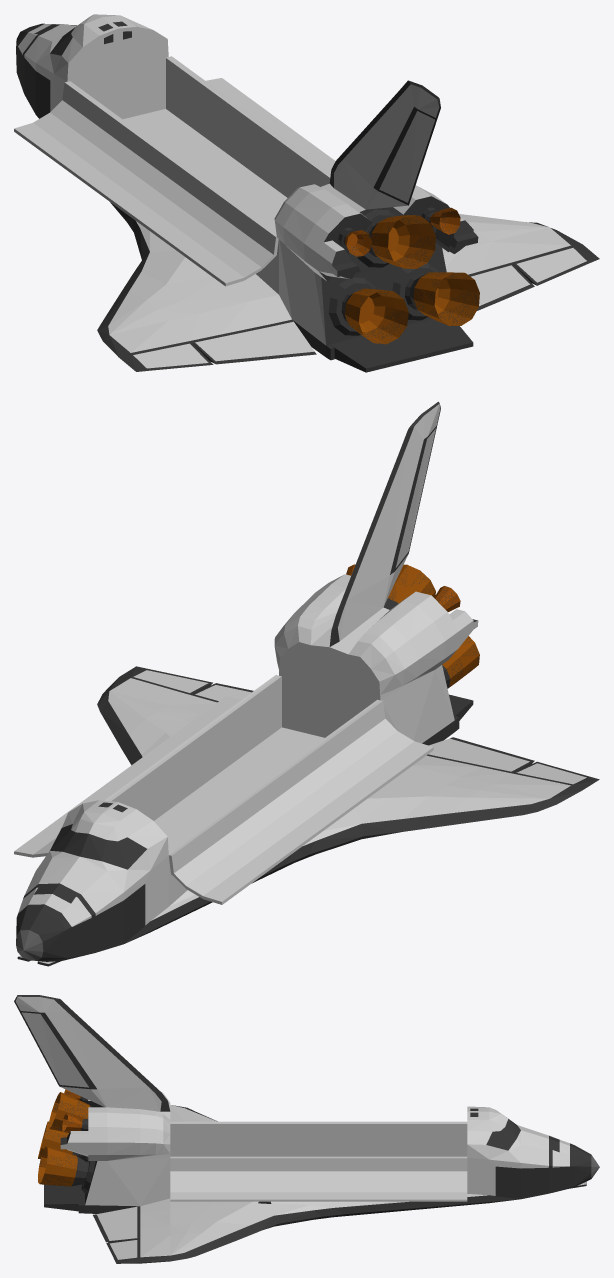
The model's file is shuttle.obj.
3 renders of one model, top to bottom at view 1: azimuth 30°, elevation 25°; view 2: azimuth 150°, elevation 25°; view 3: azimuth 270°, elevation 25°, orthographic. The views are drawn at different scales.
Parts seen in each view (by area): view 1: ShapeIndexedFaceSet.065_ShapeIndexedFaceSet.066, ShapeIndexedFaceSet.063_ShapeIndexedFaceSet.064, ShapeIndexedFaceSet.026_ShapeIndexedFaceSet.027, ShapeIndexedFaceSet.001_ShapeIndexedFaceSet.002, ShapeIndexedFaceSet_ShapeIndexedFaceSet.001, ShapeIndexedFaceSet.022_ShapeIndexedFaceSet.023, ShapeIndexedFaceSet.012_ShapeIndexedFaceSet.013, ShapeIndexedFaceSet.003_ShapeIndexedFaceSet.004, ShapeIndexedFaceSet.014_ShapeIndexedFaceSet.015, ShapeIndexedFaceSet.038_ShapeIndexedFaceSet.039, ShapeIndexedFaceSet.030_ShapeIndexedFaceSet.031, ShapeIndexedFaceSet.004_ShapeIndexedFaceSet.005 (+19 smaller); view 2: ShapeIndexedFaceSet.065_ShapeIndexedFaceSet.066, ShapeIndexedFaceSet.063_ShapeIndexedFaceSet.064, ShapeIndexedFaceSet.026_ShapeIndexedFaceSet.027, ShapeIndexedFaceSet_ShapeIndexedFaceSet.001, ShapeIndexedFaceSet.012_ShapeIndexedFaceSet.013, ShapeIndexedFaceSet.001_ShapeIndexedFaceSet.002, ShapeIndexedFaceSet.022_ShapeIndexedFaceSet.023, ShapeIndexedFaceSet.027_ShapeIndexedFaceSet.028, ShapeIndexedFaceSet.064_ShapeIndexedFaceSet.065, ShapeIndexedFaceSet.014_ShapeIndexedFaceSet.015, ShapeIndexedFaceSet.023_ShapeIndexedFaceSet.024, ShapeIndexedFaceSet.004_ShapeIndexedFaceSet.005 (+4 smaller); view 3: ShapeIndexedFaceSet.064_ShapeIndexedFaceSet.065, ShapeIndexedFaceSet.065_ShapeIndexedFaceSet.066, ShapeIndexedFaceSet.026_ShapeIndexedFaceSet.027, ShapeIndexedFaceSet_ShapeIndexedFaceSet.001, ShapeIndexedFaceSet.001_ShapeIndexedFaceSet.002, ShapeIndexedFaceSet.024_ShapeIndexedFaceSet.025, ShapeIndexedFaceSet.012_ShapeIndexedFaceSet.013, ShapeIndexedFaceSet.014_ShapeIndexedFaceSet.015, ShapeIndexedFaceSet.027_ShapeIndexedFaceSet.028, ShapeIndexedFaceSet.018_ShapeIndexedFaceSet.019, ShapeIndexedFaceSet.025_ShapeIndexedFaceSet.026, ShapeIndexedFaceSet.038_ShapeIndexedFaceSet.039 (+7 smaller).
Boxes of the visible parts, bbox=[...] form: ShapeIndexedFaceSet.065_ShapeIndexedFaceSet.066: bbox=[67, 26, 330, 234]; ShapeIndexedFaceSet.063_ShapeIndexedFaceSet.064: bbox=[14, 82, 278, 286]; ShapeIndexedFaceSet.026_ShapeIndexedFaceSet.027: bbox=[108, 214, 570, 352]; ShapeIndexedFaceSet.001_ShapeIndexedFaceSet.002: bbox=[16, 21, 478, 360]; ShapeIndexedFaceSet_ShapeIndexedFaceSet.001: bbox=[18, 14, 464, 294]; ShapeIndexedFaceSet.022_ShapeIndexedFaceSet.023: bbox=[334, 84, 439, 209]; ShapeIndexedFaceSet.012_ShapeIndexedFaceSet.013: bbox=[274, 184, 445, 280]; ShapeIndexedFaceSet.003_ShapeIndexedFaceSet.004: bbox=[330, 319, 473, 372]; ShapeIndexedFaceSet.014_ShapeIndexedFaceSet.015: bbox=[279, 239, 325, 345]; ShapeIndexedFaceSet.038_ShapeIndexedFaceSet.039: bbox=[413, 272, 479, 325]; ShapeIndexedFaceSet.030_ShapeIndexedFaceSet.031: bbox=[371, 215, 435, 268]; ShapeIndexedFaceSet.004_ShapeIndexedFaceSet.005: bbox=[195, 321, 314, 361]; ShapeIndexedFaceSet.065_ShapeIndexedFaceSet.066: bbox=[108, 645, 380, 854]; ShapeIndexedFaceSet.063_ShapeIndexedFaceSet.064: bbox=[169, 700, 433, 904]; ShapeIndexedFaceSet.026_ShapeIndexedFaceSet.027: bbox=[108, 678, 570, 920]; ShapeIndexedFaceSet_ShapeIndexedFaceSet.001: bbox=[18, 607, 478, 926]; ShapeIndexedFaceSet.012_ShapeIndexedFaceSet.013: bbox=[274, 574, 458, 694]; ShapeIndexedFaceSet.001_ShapeIndexedFaceSet.002: bbox=[16, 619, 477, 961]; ShapeIndexedFaceSet.022_ShapeIndexedFaceSet.023: bbox=[338, 404, 440, 640]; ShapeIndexedFaceSet.027_ShapeIndexedFaceSet.028: bbox=[97, 677, 582, 943]; ShapeIndexedFaceSet.064_ShapeIndexedFaceSet.065: bbox=[14, 675, 278, 857]; ShapeIndexedFaceSet.014_ShapeIndexedFaceSet.015: bbox=[380, 665, 454, 743]; ShapeIndexedFaceSet.023_ShapeIndexedFaceSet.024: bbox=[329, 401, 440, 646]; ShapeIndexedFaceSet.004_ShapeIndexedFaceSet.005: bbox=[428, 738, 529, 771]; ShapeIndexedFaceSet.064_ShapeIndexedFaceSet.065: bbox=[170, 1157, 467, 1201]; ShapeIndexedFaceSet.065_ShapeIndexedFaceSet.066: bbox=[170, 1123, 467, 1157]; ShapeIndexedFaceSet.026_ShapeIndexedFaceSet.027: bbox=[140, 1105, 486, 1257]; ShapeIndexedFaceSet_ShapeIndexedFaceSet.001: bbox=[60, 1106, 569, 1195]; ShapeIndexedFaceSet.001_ShapeIndexedFaceSet.002: bbox=[60, 1101, 591, 1263]; ShapeIndexedFaceSet.024_ShapeIndexedFaceSet.025: bbox=[15, 996, 161, 1111]; ShapeIndexedFaceSet.012_ShapeIndexedFaceSet.013: bbox=[88, 1092, 170, 1160]; ShapeIndexedFaceSet.014_ShapeIndexedFaceSet.015: bbox=[85, 1154, 170, 1206]; ShapeIndexedFaceSet.027_ShapeIndexedFaceSet.028: bbox=[140, 1105, 519, 1262]; ShapeIndexedFaceSet.018_ShapeIndexedFaceSet.019: bbox=[21, 1012, 88, 1087]; ShapeIndexedFaceSet.025_ShapeIndexedFaceSet.026: bbox=[14, 995, 170, 1111]; ShapeIndexedFaceSet.038_ShapeIndexedFaceSet.039: bbox=[38, 1146, 77, 1186].
Bounding box in the file's own units: 238 × 141 × 371.
